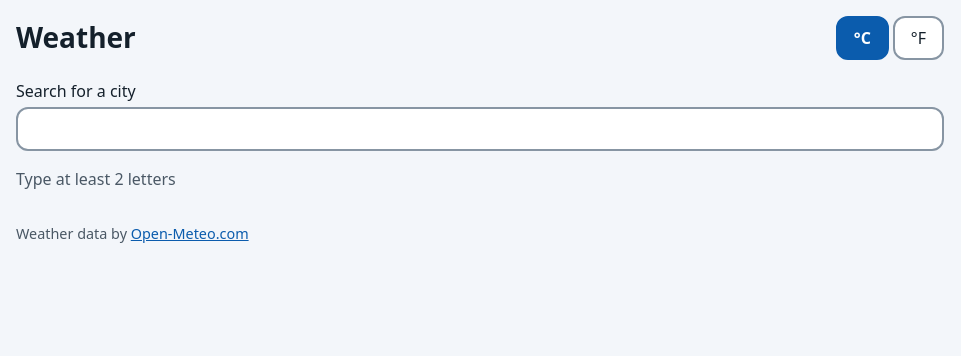
Scenario: errors › shows the timeout message
Type "Tokyo" into the search field labelled "Search for a city".
click(480, 129); type("Tokyo")  # box [16,107,944,151]
Wait 8400 ms
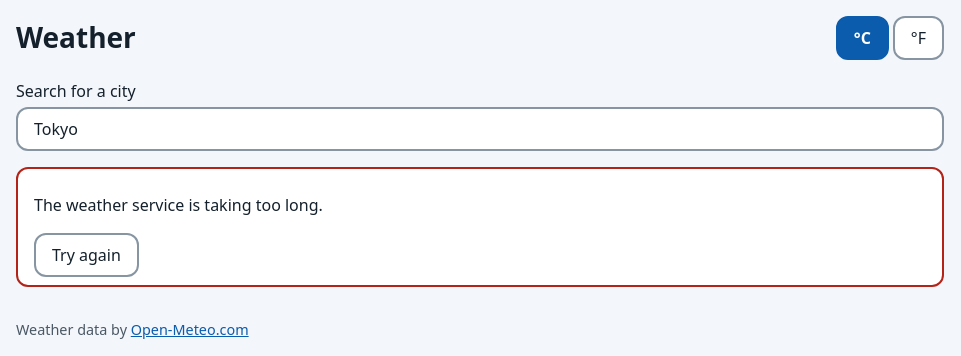
Now the text "The weather service is taking too long." is shown, box [34,194,323,216]
